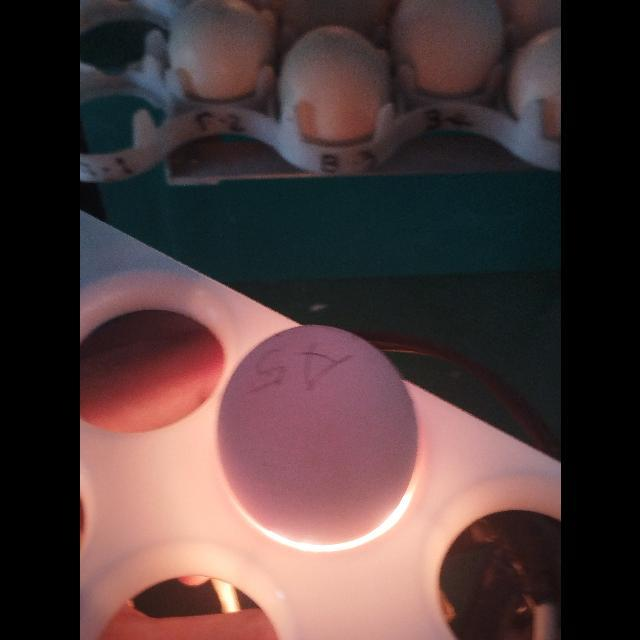Fertile: (218, 318, 428, 542)
